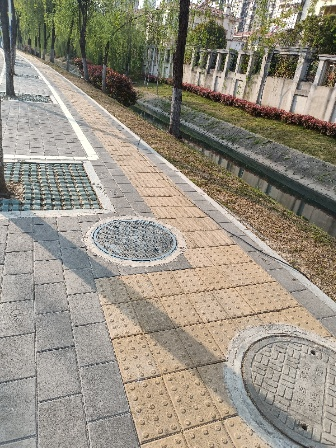good: (233, 328, 336, 448), (86, 216, 185, 264)
